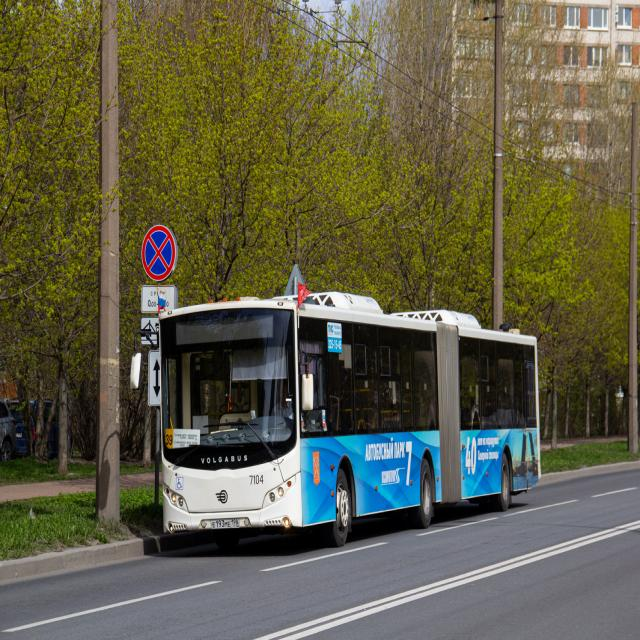number-of-bus: (165, 431, 175, 449)
